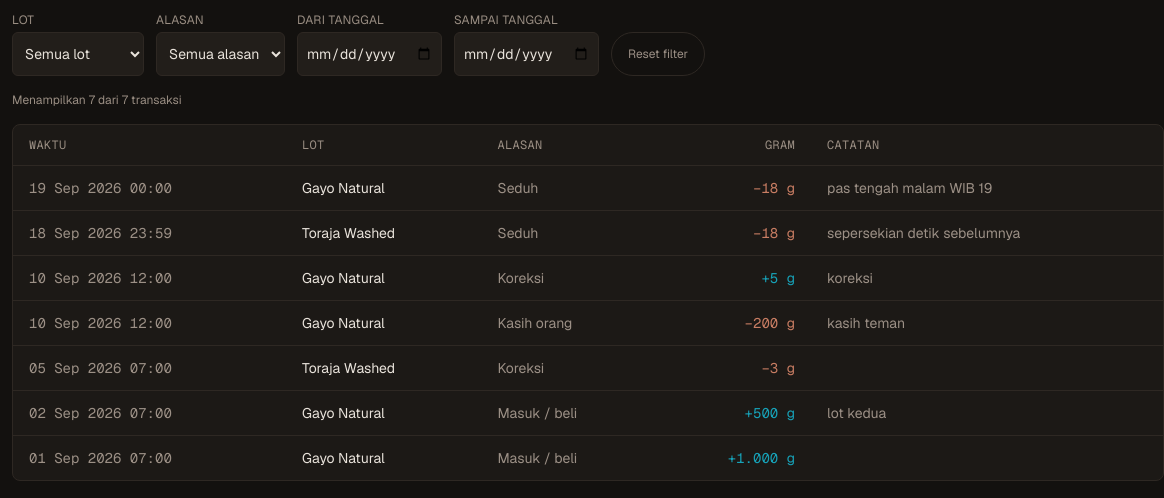
Test: HistoryList filter rentang tanggal WIB › rentang inklusif di kedua ujung
Type "2026-09-01" into the date field labelled "Dari tanggal". click: (370, 54)
box: [297,32,442,76]
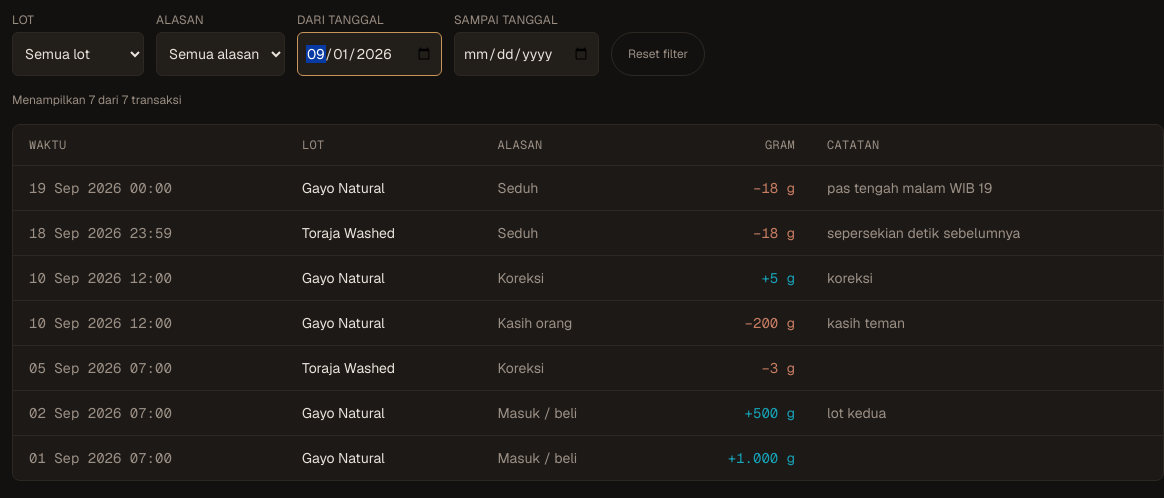
Type "2026-09-02" into the date field labelled "Sampai tanggal". click: (526, 54)
box: [454,32,599,76]
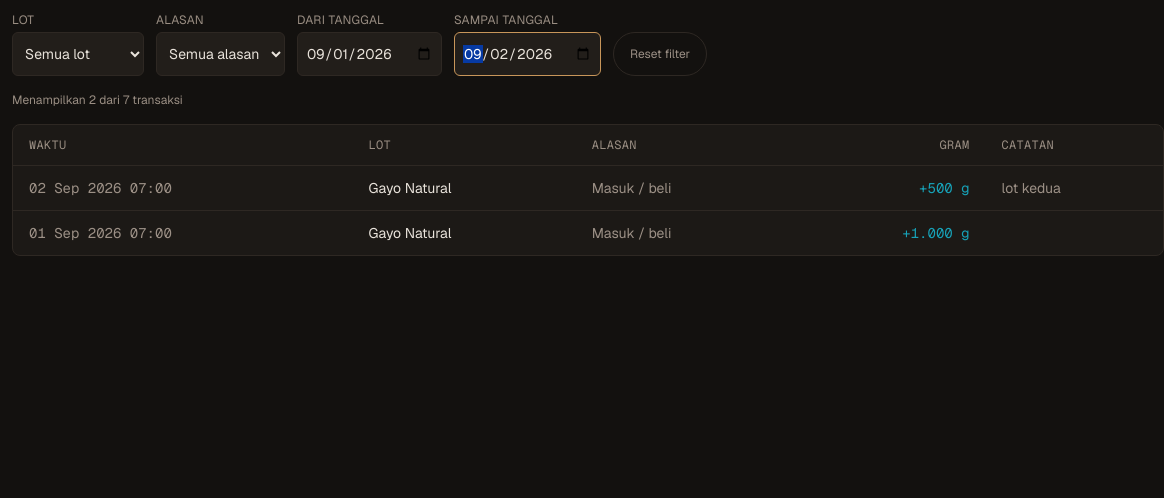
Check: the text "Menampilkan 2 dari 7 transaksi" is shown, box [12,92,183,108]
